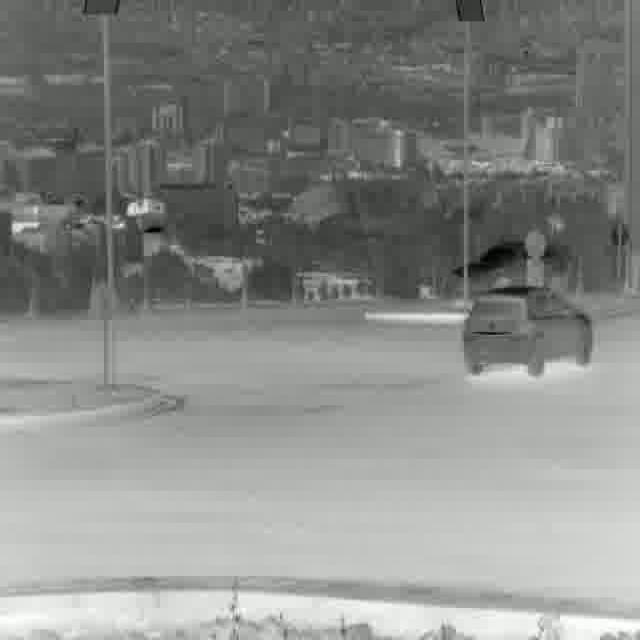Car: (465, 286, 591, 374), (445, 242, 569, 306)
